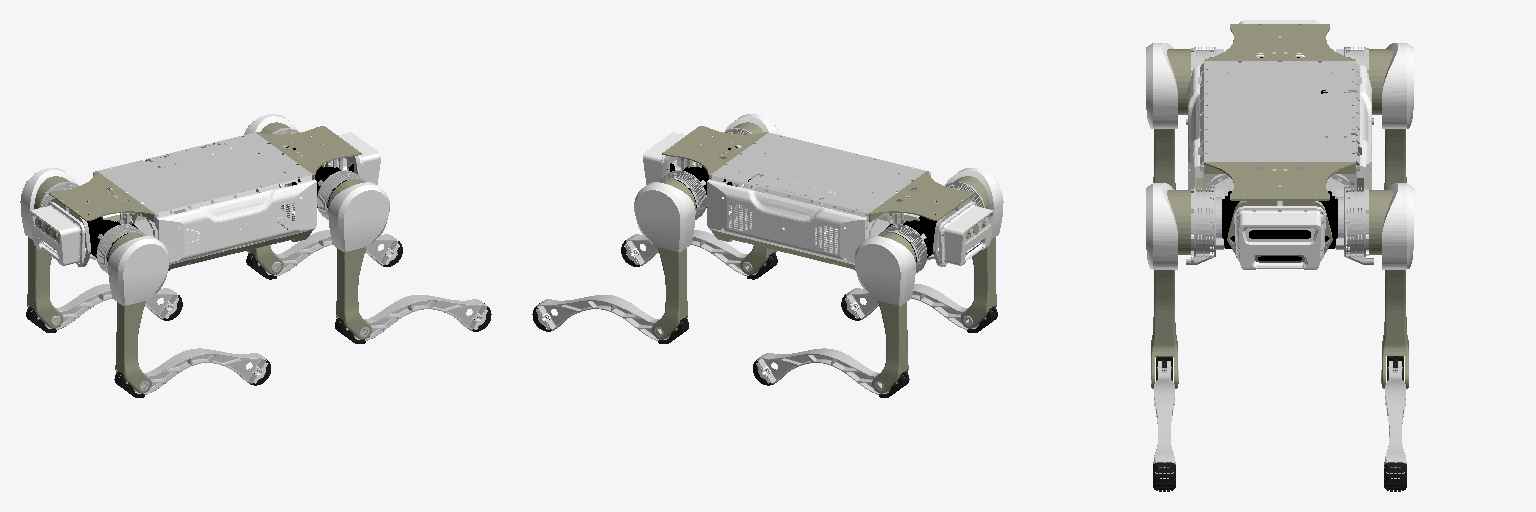
--- What the picture shows (computed from the rendered views, not written in the file) ---
3 views of the same robot in one strip: view 1: azimuth 30°, elevation 25°; view 2: azimuth 150°, elevation 25°; view 3: azimuth 270°, elevation 25° (orthographic).
Robot: x20Z1_description — 29 links, 28 joints (19 revolute, 9 fixed); root link base; default pose: all joints at 0 but 4 set to mid-range because 0 is outside their limits (FL_calf_joint = 1.44, FR_calf_joint = 1.44, RL_calf_joint = 1.44, RR_calf_joint = 1.44).
Visible links, largest first — view 1: trunk, RR_thigh, FR_thigh, RL_thigh, RR_calf, FR_calf, RL_calf, FL_calf, FL_thigh; view 2: trunk, RL_thigh, FL_thigh, RR_thigh, RL_calf, FL_calf, RR_calf, FR_calf, FR_thigh; view 3: trunk, FR_thigh, FL_thigh, RL_thigh, RR_thigh, FL_calf, FR_calf.
Link boxes in pixels (box(x1,y1,x2,y2)): trunk: box(29, 126, 380, 270); RR_thigh: box(96, 224, 169, 393); FR_thigh: box(317, 170, 389, 339); RL_thigh: box(20, 168, 78, 328); RR_calf: box(114, 348, 270, 397); FR_calf: box(335, 295, 491, 343); RL_calf: box(26, 284, 182, 332); FL_calf: box(246, 230, 402, 279); FL_thigh: box(244, 114, 299, 274); trunk: box(643, 126, 994, 270); RL_thigh: box(854, 224, 927, 393); FL_thigh: box(634, 170, 706, 339); RR_thigh: box(945, 168, 1003, 328); RL_calf: box(753, 348, 909, 397); FL_calf: box(532, 295, 688, 343); RR_calf: box(841, 284, 997, 332); FR_calf: box(621, 230, 777, 279); FR_thigh: box(724, 114, 779, 274); trunk: box(1188, 20, 1371, 269); FR_thigh: box(1146, 183, 1223, 388); FL_thigh: box(1336, 183, 1413, 388); RL_thigh: box(1336, 43, 1413, 189); RR_thigh: box(1146, 43, 1223, 189); FL_calf: box(1384, 356, 1406, 491); FR_calf: box(1153, 357, 1175, 491).
Size in the robot's own frame: 1.06 by 0.47 by 0.4544 metres.
13 mesh visuals loaded from 17 distinct referenced files (8 Collada DAE); not drawn: 9 (file found but could not be loaded).

robot.urdf — x20Z1_description:
<?xml version="1.0" encoding="utf-8"?>

<robot name="x20Z1_description">
  <material name="black">
    <color rgba="0.0 0.0 0.0 1.0" />
  </material>
  <material name="blue">
    <color rgba="0.0 0.0 0.8 1.0" />
  </material>
  <material name="green">
    <color rgba="0.0 0.8 0.0 1.0" />
  </material>
  <material name="grey">
    <color rgba="0.2 0.2 0.2 1.0" />
  </material>
  <material name="silver">
    <color rgba="0.9137254901960784 0.9137254901960784 0.8470588235294118 1.0" />
  </material>
  <material name="orange">
    <color rgba="1.0 0.4235294117647059 0.0392156862745098 1.0" />
  </material>
  <material name="brown">
    <color rgba="0.8705882352941177 0.8117647058823529 0.7647058823529411 1.0" />
  </material>
  <material name="red">
    <color rgba="0.8 0.0 0.0 1.0" />
  </material>
  <material name="white">
    <color rgba="1.0 1.0 1.0 1.0" />
  </material>
  <gazebo>
    <plugin filename="libgazebo_ros_control.so" name="gazebo_ros_control">
      <robotNamespace>/x20Z1_gazebo</robotNamespace>
      <robotSimType>gazebo_ros_control/DefaultRobotHWSim</robotSimType>
    </plugin>
  </gazebo>
  <!-- Show the trajectory of trunk center. -->
  <gazebo>
    <plugin filename="libLinkPlot3DPlugin.so" name="3dplot">
      <frequency>10</frequency>
      <plot>
        <link>base</link>
        <pose>0 0 0 0 0 0</pose>
        <material>Gazebo/Yellow</material>
      </plot>
    </plugin>
  </gazebo>
  <gazebo>
    <plugin filename="libgazebo_ros_force.so" name="gazebo_ros_force">
      <bodyName>trunk</bodyName>
      <topicName>/apply_force/trunk</topicName>
    </plugin>
  </gazebo>
  <gazebo reference="imu_link">
    <gravity>true</gravity>
    <sensor name="imu_sensor" type="imu">
      <always_on>true</always_on>
      <update_rate>1000</update_rate>
      <visualize>true</visualize>
      <topic>__default_topic__</topic>
      <plugin filename="libgazebo_ros_imu_sensor.so" name="imu_plugin">
        <topicName>trunk_imu</topicName>
        <bodyName>imu_link</bodyName>
        <updateRateHZ>1000.0</updateRateHZ>
        <gaussianNoise>0.0</gaussianNoise>
        <xyzOffset>0 0 0</xyzOffset>
        <rpyOffset>0 0 0</rpyOffset>
        <frameName>imu_link</frameName>
      </plugin>
      <pose>0 0 0 0 0 0</pose>
    </sensor>
  </gazebo>
  <!-- Foot contacts. -->
  <gazebo reference="FL_calf">
    <sensor name="FL_foot_contact" type="contact">
      <update_rate>100</update_rate>
      <plugin filename="libunitreeFootContactPlugin.so" name="contactPlugin" />
      <contact>
        <collision>FL_foot_collision_1</collision>
      </contact>
    </sensor>
  </gazebo>
  <gazebo reference="FR_calf">
    <sensor name="FR_foot_contact" type="contact">
      <update_rate>100</update_rate>
      <plugin filename="libunitreeFootContactPlugin.so" name="contactPlugin" />
      <contact>
        <collision>FR_foot_collision_1</collision>
      </contact>
    </sensor>
  </gazebo>
  <gazebo reference="RL_calf">
    <sensor name="RL_foot_contact" type="contact">
      <update_rate>100</update_rate>
      <plugin filename="libunitreeFootContactPlugin.so" name="contactPlugin" />
      <contact>
        <collision>RL_foot_collision_1</collision>
      </contact>
    </sensor>
  </gazebo>
  <gazebo reference="RR_calf">
    <sensor name="RR_foot_contact" type="contact">
      <update_rate>100</update_rate>
      <plugin filename="libunitreeFootContactPlugin.so" name="contactPlugin" />
      <contact>
        <collision>RR_foot_collision_1</collision>
      </contact>
    </sensor>
  </gazebo>
  <!-- Visualization of Foot contacts. -->
  <gazebo reference="FL_foot">
    <visual>
      <plugin filename="libunitreeDrawForcePlugin.so" name="drawForcePlugin">
        <topicName>FL_foot_contact</topicName>
      </plugin>
    </visual>
  </gazebo>
  <gazebo reference="FR_foot">
    <visual>
      <plugin filename="libunitreeDrawForcePlugin.so" name="drawForcePlugin">
        <topicName>FR_foot_contact</topicName>
      </plugin>
    </visual>
  </gazebo>
  <gazebo reference="RL_foot">
    <visual>
      <plugin filename="libunitreeDrawForcePlugin.so" name="drawForcePlugin">
        <topicName>RL_foot_contact</topicName>
      </plugin>
    </visual>
  </gazebo>
  <gazebo reference="RR_foot">
    <visual>
      <plugin filename="libunitreeDrawForcePlugin.so" name="drawForcePlugin">
        <topicName>RR_foot_contact</topicName>
      </plugin>
    </visual>
  </gazebo>
  <gazebo reference="base">
    <material>Gazebo/Green</material>
    <turnGravityOff>false</turnGravityOff>
  </gazebo>
  <gazebo reference="trunk">
    <mu1>0.2</mu1>
    <mu2>0.2</mu2>
    <kp value="1000000.0" />
    <kd value="1.0" />
  </gazebo>
  <gazebo reference="stick_link">
    <mu1>0.2</mu1>
    <mu2>0.2</mu2>
    <material>Gazebo/White</material>
  </gazebo>
  <gazebo reference="imu_link">
    <mu1>0.2</mu1>
    <mu2>0.2</mu2>
    <material>Gazebo/Red</material>
  </gazebo>
  <gazebo reference="FL_hip">
    <mu1>0.2</mu1>
    <mu2>0.2</mu2>
  </gazebo>
  <gazebo reference="FL_thigh">
    <mu1>0.2</mu1>
    <mu2>0.2</mu2>
    <self_collide>1</self_collide>
    <kp value="1000000.0" />
    <kd value="1.0" />
  </gazebo>
  <gazebo reference="FL_calf">
    <mu1>0.2</mu1>
    <mu2>0.2</mu2>
    <self_collide>1</self_collide>
  </gazebo>
  <gazebo reference="FL_foot">
    <mu1>0.6</mu1>
    <mu2>0.6</mu2>
    <self_collide>1</self_collide>
    <kp value="1000000.0" />
    <kd value="1.0" />
  </gazebo>
  <gazebo reference="FR_hip">
    <mu1>0.2</mu1>
    <mu2>0.2</mu2>
  </gazebo>
  <gazebo reference="FR_thigh">
    <mu1>0.2</mu1>
    <mu2>0.2</mu2>
    <self_collide>1</self_collide>
    <kp value="1000000.0" />
    <kd value="1.0" />
  </gazebo>
  <gazebo reference="FR_calf">
    <mu1>0.2</mu1>
    <mu2>0.2</mu2>
    <self_collide>1</self_collide>
  </gazebo>
  <gazebo reference="FR_foot">
    <mu1>0.6</mu1>
    <mu2>0.6</mu2>
    <self_collide>1</self_collide>
    <kp value="1000000.0" />
    <kd value="1.0" />
  </gazebo>
  <gazebo reference="RL_hip">
    <mu1>0.2</mu1>
    <mu2>0.2</mu2>
  </gazebo>
  <gazebo reference="RL_thigh">
    <mu1>0.2</mu1>
    <mu2>0.2</mu2>
    <self_collide>1</self_collide>
    <kp value="1000000.0" />
    <kd value="1.0" />
  </gazebo>
  <gazebo reference="RL_calf">
    <mu1>0.2</mu1>
    <mu2>0.2</mu2>
    <self_collide>1</self_collide>
  </gazebo>
  <gazebo reference="RL_foot">
    <mu1>0.6</mu1>
    <mu2>0.6</mu2>
    <self_collide>1</self_collide>
    <kp value="1000000.0" />
    <kd value="1.0" />
  </gazebo>
  <gazebo reference="RR_hip">
    <mu1>0.2</mu1>
    <mu2>0.2</mu2>
  </gazebo>
  <gazebo reference="RR_thigh">
    <mu1>0.2</mu1>
    <mu2>0.2</mu2>
    <self_collide>1</self_collide>
    <kp value="1000000.0" />
    <kd value="1.0" />
  </gazebo>
  <gazebo reference="RR_calf">
    <mu1>0.2</mu1>
    <mu2>0.2</mu2>
    <self_collide>1</self_collide>
  </gazebo>
  <gazebo reference="RR_foot">
    <mu1>0.6</mu1>
    <mu2>0.6</mu2>
    <self_collide>1</self_collide>
    <kp value="1000000.0" />
    <kd value="1.0" />
  </gazebo>

  <!-- <link name="world"/>
  <joint name="world_joint" type="fixed">
    <parent link="world"/>
    <child link="base"/>
    <origin xyz="0 0 0" rpy="0 0 0"/>
  </joint> -->

  <link name="base">
    <visual>
      <origin rpy="0 0 0" xyz="0 0 0" />
      <geometry>
        <box size="0.001 0.001 0.001" />
      </geometry>
    </visual>
    <inertial>
      <mass value="0.0001" />
      <inertia ixx="1E-12" ixy="0" ixz="0" iyy="1E-12" iyz="0" izz="1E-12" />
    </inertial>
    <collision>
      <geometry>
        <box size="0.46 0.26 0.15" />
      </geometry>
    </collision>
  </link>
  <joint name="floating_base" type="fixed">
    <parent link="base" />
    <child link="trunk" />
  </joint>
  <link name="trunk">
    <inertial>
      <origin xyz="0.0049299 0.00041299 0.0040884" />
      <mass value="26.398" />
      <inertia ixx="0.313256" ixy="-5.2136E-05" ixz="-0.00019406" iyy="0.51388" iyz="8.2679E-05" izz="0.651151" />
    </inertial>
    <visual>
      <geometry>
        <mesh filename="package://x20Z1_description/meshes/visual/Torso.dae" scale="1 1 1" />
      </geometry>
    </visual>
  </link>
  <joint name="imu_joint" type="fixed">
    <parent link="base" />
    <child link="imu_link" />
    <origin rpy="0 0 0" xyz="0 0 0" />
  </joint>
  <link name="imu_link">
    <inertial>
      <mass value="0.001" />
      <origin rpy="0 0 0" xyz="0 0 0" />
      <inertia ixx="0.0001" ixy="0" ixz="0" iyy="0.0001" iyz="0" izz="0.0001" />
    </inertial>
    <visual>
      <origin rpy="0 0 0" xyz="0 0 0" />
      <geometry>
        <box size="0.001 0.001 0.001" />
      </geometry>
      <material name="red" />
    </visual>
    <!-- <collision>
          <origin rpy="0 0 0" xyz="0 0 0"/>
          <geometry>
              <box size=".001 .001 .001"/>
          </geometry>
      </collision> -->
  </link> --&gt; <joint name="trunk_arm_joint" type="fixed">
  <origin rpy="0 0 0" xyz="0.265 0 0.085" />
  <parent link="trunk" />
  <child link="link00" />
</joint>
<link name="link00">
  <visual>
    <origin rpy="0 0 0" xyz="0 0 0" />
    <geometry>
      <mesh filename="package://x20Z1_description/meshes/visual/z1_Link00.dae" scale="1 1 1" />
    </geometry>
  </visual>
  <collision>
    <geometry>
      <cylinder length="0.051" radius="0.0325" />
    </geometry>
    <origin rpy="0 0 0" xyz="0 0 0.0255" />
  </collision>
  <inertial>
    <origin rpy="0 0 0" xyz="-0.00334984 -0.00013615 0.02495843" />
    <mass value="0.47247481" />
    <inertia ixx="0.00037937" ixy="-3.5e-07" ixz="-1.037e-05" iyy="0.00041521" iyz="-9.9e-07" izz="0.00053066" />
  </inertial>
</link>
<joint name="joint1" type="revolute">
  <origin rpy="0 0 0" xyz="0 0 0.0585" />
  <parent link="link00" />
  <child link="link01" />
  <axis xyz="0 0 1" />
  <dynamics damping="1.0" friction="1.0" />
  <limit effort="30.0" lower="-2.6179938779914944" upper="2.6179938779914944" velocity="3.1415" />
</joint>
<link name="link01">
  <visual>
    <origin rpy="0 0 0" xyz="0 0 0" />
    <geometry>
      <mesh filename="package://x20Z1_description/meshes/visual/z1_Link01.dae" scale="1 1 1" />
    </geometry>
  </visual>
  <collision>
    <geometry>
      <cylinder length="0.102" radius="0.0325" />
    </geometry>
    <origin rpy="0 0 0" xyz="0 0 0" />
  </collision>
  <inertial>
    <origin rpy="0 0 0" xyz="2.47e-06 -0.00025198 0.02317169" />
    <mass value="0.67332551" />
    <inertia ixx="0.00128328" ixy="-6e-08" ixz="-4e-07" iyy="0.00071931" iyz="5e-07" izz="0.00083936" />
  </inertial>
</link>
<joint name="joint2" type="revolute">
  <origin rpy="0 0 0" xyz="0 0 0.045" />
  <parent link="link01" />
  <child link="link02" />
  <axis xyz="0 1 0" />
  <dynamics damping="2.0" friction="2.0" />
  <limit effort="60.0" lower="0.0" upper="2.9670597283903604" velocity="3.1415" />
</joint>
<link name="link02">
  <visual>
    <origin rpy="0 0 0" xyz="0 0 0" />
    <geometry>
      <mesh filename="package://x20Z1_description/meshes/visual/z1_Link02.dae" scale="1 1 1" />
    </geometry>
  </visual>
  <collision>
    <geometry>
      <cylinder length="0.102" radius="0.0325" />
    </geometry>
    <origin rpy="1.5707963267948966 0 0" xyz="0 0 0" />
  </collision>
  <collision>
    <geometry>
      <cylinder length="0.235" radius="0.0225" />
    </geometry>
    <origin rpy="0 1.5707963267948966 0" xyz="-0.16249999999999998 0 0" />
  </collision>
  <collision>
    <geometry>
      <cylinder length="0.051" radius="0.0325" />
    </geometry>
    <origin rpy="1.5707963267948966 0 0" xyz="-0.35 0 0" />
  </collision>
  <inertial>
    <origin rpy="0 0 0" xyz="-0.11012601 0.00240029 0.00158266" />
    <mass value="1.19132258" />
    <inertia ixx="0.00102138" ixy="0.00062358" ixz="5.13e-06" iyy="0.02429457" iyz="-2.1e-06" izz="0.02466114" />
  </inertial>
</link>
<joint name="joint3" type="revolute">
  <origin rpy="0 0 0" xyz="-0.35 0 0" />
  <parent link="link02" />
  <child link="link03" />
  <axis xyz="0 1 0" />
  <dynamics damping="1.0" friction="1.0" />
  <limit effort="30.0" lower="-2.8797932657906435" upper="0.0" velocity="3.1415" />
</joint>
<link name="link03">
  <visual>
    <origin rpy="0 0 0" xyz="0 0 0" />
    <geometry>
      <mesh filename="package://x20Z1_description/meshes/visual/z1_Link03.dae" scale="1 1 1" />
    </geometry>
  </visual>
  <collision>
    <geometry>
      <cylinder length="0.116" radius="0.02" />
    </geometry>
    <origin rpy="0 1.5707963267948966 0" xyz="0.128 0 0.055" />
  </collision>
  <collision>
    <geometry>
      <cylinder length="0.059" radius="0.0325" />
    </geometry>
    <origin rpy="0 1.5707963267948966 1.5707963267948966" xyz="0.2205 0 0.055" />
  </collision>
  <inertial>
    <origin rpy="0 0 0" xyz="0.10609208 -0.00541815 0.03476383" />
    <mass value="0.83940874" />
    <inertia ixx="0.00108061" ixy="-8.669e-05" ixz="-0.00208102" iyy="0.00954238" iyz="-1.332e-05" izz="0.00886621" />
  </inertial>
</link>
<joint name="joint4" type="revolute">
  <origin rpy="0 0 0" xyz="0.218 0 0.057" />
  <parent link="link03" />
  <child link="link04" />
  <axis xyz="0 1 0" />
  <dynamics damping="1.0" friction="1.0" />
  <limit effort="30.0" lower="-1.5184364492350666" upper="1.5184364492350666" velocity="3.1415" />
</joint>
<link name="link04">
  <visual>
    <origin rpy="0 0 0" xyz="0 0 0" />
    <geometry>
      <mesh filename="package://x20Z1_description/meshes/visual/z1_Link04.dae" scale="1 1 1" />
    </geometry>
  </visual>
  <collision>
    <geometry>
      <cylinder length="0.067" radius="0.0325" />
    </geometry>
    <origin rpy="0 0 0" xyz="0.072 0 0" />
  </collision>
  <inertial>
    <origin rpy="0 0 0" xyz="0.04366681 0.00364738 -0.00170192" />
    <mass value="0.56404563" />
    <inertia ixx="0.00031576" ixy="8.13e-05" ixz="4.091e-05" iyy="0.00092996" iyz="-5.96e-06" izz="0.00097912" />
  </inertial>
</link>
<joint name="joint5" type="revolute">
  <origin rpy="0 0 0" xyz="0.07 0.0 0.0" />
  <parent link="link04" />
  <child link="link05" />
  <axis xyz="0 0 1" />
  <dynamics damping="1.0" friction="1.0" />
  <limit effort="30.0" lower="-1.3439035240356338" upper="1.3439035240356338" velocity="3.1415" />
</joint>
<link name="link05">
  <visual>
    <origin rpy="0 0 0" xyz="0 0 0" />
    <geometry>
      <mesh filename="package://x20Z1_description/meshes/visual/z1_Link05.dae" scale="1 1 1" />
    </geometry>
  </visual>
  <inertial>
    <origin rpy="0 0 0" xyz="0.03121533 0.0 0.00646316" />
    <mass value="0.38938492" />
    <inertia ixx="0.00017605" ixy="4e-07" ixz="5.689e-05" iyy="0.00055896" iyz="-1.3e-07" izz="0.0005386" />
  </inertial>
</link>
<joint name="joint6" type="revolute">
  <origin rpy="0 0 0" xyz="0.0492 0.0 0.0" />
  <parent link="link05" />
  <child link="link06" />
  <axis xyz="1 0 0" />
  <dynamics damping="1.0" friction="1.0" />
  <limit effort="30.0" lower="-2.792526803190927" upper="2.792526803190927" velocity="3.1415" />
</joint>
<link name="link06">
  <visual>
    <origin rpy="0 0 0" xyz="0 0 0" />
    <geometry>
      <mesh filename="package://x20Z1_description/meshes/visual/z1_Link06.dae" scale="1 1 1" />
    </geometry>
  </visual>
  <collision>
    <geometry>
      <cylinder length="0.051" radius="0.0325" />
    </geometry>
    <origin rpy="0 1.5707963267948966 0" xyz="0.0255 0 0" />
  </collision>
  <inertial>
    <origin rpy="0 0 0" xyz="0.0241569 -0.00017355 -0.00143876" />
    <mass value="0.28875807" />
    <inertia ixx="0.00018328" ixy="1.22e-06" ixz="5.4e-07" iyy="0.0001475" iyz="8e-08" izz="0.0001468" />
  </inertial>
</link>
<joint name="gripperStator" type="fixed">
  <origin rpy="0 0 0" xyz="0.051 0.0 0.0" />
  <parent link="link06" />
  <child link="gripperStator" />
</joint>
<link name="gripperStator">
  <visual>
    <geometry>
      <mesh filename="package://x20Z1_description/meshes/visual/z1_GripperStator.dae" scale="1 1 1" />
    </geometry>
  </visual>
  <collision>
    <geometry>
      <mesh filename="package://x20Z1_description/meshes/collision/z1_GripperStator.obj" scale="1 1 1" />
    </geometry>
  </collision>
  <inertial>
    <origin rpy="0 0 0" xyz="0.04764427 -0.00035819 -0.00249162" />
    <mass value="0.52603655" />
    <inertia ixx="0.00038683" ixy="-3.59e-06" ixz="7.662e-05" iyy="0.00068614" iyz="2.09e-06" izz="0.00066293" />
  </inertial>
</link>
<joint name="jointGripper" type="revolute">
  <origin rpy="0 0 0" xyz="0.049 0.0 0" />
  <parent link="gripperStator" />
  <child link="gripperMover" />
  <axis xyz="0 1 0" />
  <dynamics damping="1.0" friction="1.0" />
  <limit effort="30.0" lower="-1.5707963267948966" upper="0.0" velocity="3.1415" />
</joint>
<link name="gripperMover">
  <visual>
    <geometry>
      <mesh filename="package://x20Z1_description/meshes/visual/z1_GripperMover.dae" scale="1 1 1" />
    </geometry>
  </visual>
  <collision>
    <geometry>
      <mesh filename="package://x20Z1_description/meshes/collision/z1_GripperMover.obj" scale="1 1 1" />
    </geometry>
  </collision>
  <inertial>
    <origin rpy="0 0 0" xyz="0.01320633 0.00476708 0.00380534" />
    <mass value="0.27621302" />
    <inertia ixx="0.00017716" ixy="1.683e-05" ixz="-1.786e-05" iyy="0.00026787" iyz="2.62e-06" izz="0.00035728" />
  </inertial>
</link>
<joint name="endEffector" type="fixed">
  <origin rpy="0 0 0" xyz="0.094 0.0 0" />
  <parent link="gripperStator" />
  <child link="endEffector" />
</joint>
<link name="endEffector">
  <mass value="0.0" />
  <inertia ixx="0.0" ixy="0.0" ixz="0.0" iyy="0.0" iyz="0.0" izz="0.0" />
</link>
<transmission name="JointTransGripper">
  <type>transmission_interface/SimpleTransmission</type>
  <joint name="jointGripper">
    <hardwareInterface>hardware_interface/EffortJointInterface</hardwareInterface>
  </joint>
  <actuator name="ActuatorGripper">
    <hardwareInterface>hardware_interface/EffortJointInterface</hardwareInterface>
    <mechanicalReduction>1</mechanicalReduction>
  </actuator>
</transmission>
<gazebo reference="gripperStator">
  <self_collide>true</self_collide>
</gazebo>
<gazebo reference="gripperMover">
  <self_collide>true</self_collide>
</gazebo>
<transmission name="JointTrans1">
  <type>transmission_interface/SimpleTransmission</type>
  <joint name="joint1">
    <hardwareInterface>hardware_interface/EffortJointInterface</hardwareInterface>
  </joint>
  <actuator name="Actuator1">
    <hardwareInterface>hardware_interface/EffortJointInterface</hardwareInterface>
    <mechanicalReduction>1</mechanicalReduction>
  </actuator>
</transmission>
<transmission name="JointTrans2">
  <type>transmission_interface/SimpleTransmission</type>
  <joint name="joint2">
    <hardwareInterface>hardware_interface/EffortJointInterface</hardwareInterface>
  </joint>
  <actuator name="Actuator2">
    <hardwareInterface>hardware_interface/EffortJointInterface</hardwareInterface>
    <mechanicalReduction>1</mechanicalReduction>
  </actuator>
</transmission>
<transmission name="JointTrans3">
  <type>transmission_interface/SimpleTransmission</type>
  <joint name="joint3">
    <hardwareInterface>hardware_interface/EffortJointInterface</hardwareInterface>
  </joint>
  <actuator name="Actuator3">
    <hardwareInterface>hardware_interface/EffortJointInterface</hardwareInterface>
    <mechanicalReduction>1</mechanicalReduction>
  </actuator>
</transmission>
<transmission name="JointTrans4">
  <type>transmission_interface/SimpleTransmission</type>
  <joint name="joint4">
    <hardwareInterface>hardware_interface/EffortJointInterface</hardwareInterface>
  </joint>
  <actuator name="Actuator4">
    <hardwareInterface>hardware_interface/EffortJointInterface</hardwareInterface>
    <mechanicalReduction>1</mechanicalReduction>
  </actuator>
</transmission>
<transmission name="JointTrans5">
  <type>transmission_interface/SimpleTransmission</type>
  <joint name="joint5">
    <hardwareInterface>hardware_interface/EffortJointInterface</hardwareInterface>
  </joint>
  <actuator name="Actuator5">
    <hardwareInterface>hardware_interface/EffortJointInterface</hardwareInterface>
    <mechanicalReduction>1</mechanicalReduction>
  </actuator>
</transmission>
<transmission name="JointTrans6">
  <type>transmission_interface/SimpleTransmission</type>
  <joint name="joint6">
    <hardwareInterface>hardware_interface/EffortJointInterface</hardwareInterface>
  </joint>
  <actuator name="Actuator6">
    <hardwareInterface>hardware_interface/EffortJointInterface</hardwareInterface>
    <mechanicalReduction>1</mechanicalReduction>
  </actuator>
</transmission>

<joint name="FL_hip_joint" type="revolute">
  <origin xyz="0.292 0.08 0" />
  <parent link="base" />
  <child link="FL_hip" />
  <axis xyz="-1 0 0" />
  <dynamics damping="0.01" friction="0.03" />
  <limit lower="-0.523" upper="0.261" effort="50" velocity="20" />
</joint>
<link name="FL_hip">
  <inertial>
    <origin xyz="-0.00075689 -0.0089129 -5.0528E-05" />
    <mass value="1.5767" />
    <inertia ixx="0.00155112" ixy="6.1989E-06" ixz="2.8652E-06" iyy="0.00295295" iyz="3.7E-06" izz="0.005509864" />
  </inertial>
  <visual>
    <geometry>
      <mesh filename="package://x20Z1_description/meshes/visual/FL_Hip.dae" scale="1 1 1" />
    </geometry>
  </visual>
</link>

<joint name="FL_thigh_joint" type="revolute">
  <origin xyz="0 0.12325 0" />
  <parent link="FL_hip" />
  <child link="FL_thigh" />
  <axis xyz="0 -1 0" />
  <dynamics damping="0.01" friction="0.03" />
  <limit lower="-2.53" upper="0.35" effort="50" velocity="20" />
</joint>

<link name="FL_thigh">
  <inertial>
    <origin xyz="-0.0025263 -0.022118 -0.0292" />
    <mass value="3.0063" />
    <inertia ixx="0.0092851" ixy="4.2848E-05" ixz="-3.0429E-06" iyy="0.0120815" iyz="-6.8889E-05" izz="0.00449991" />
  </inertial>
  <visual>
    <geometry>
      <mesh filename="package://x20Z1_description/meshes/visual/L_Thigh.dae" scale="1 1 1" />
    </geometry>
  </visual>
  <collision>
    <origin xyz="-0.02 0 -0.13" />
    <geometry>
      <cylinder length="0.25" radius="0.04" />
    </geometry>
  </collision>
</link>

<joint name="FL_calf_joint" type="revolute">
  <origin xyz="0 0 -0.3" />
  <parent link="FL_thigh" />
  <child link="FL_calf" />
  <axis xyz="0 -1 0" />
  <dynamics damping="0.01" friction="0.03" />
  <limit lower="0.35" upper="2.53" effort="80" velocity="20" />
</joint>

<link name="FL_calf">
  <inertial>
    <origin xyz="0.0070425 1.3129E-06 -0.16459" />
    <mass value="0.60332" />
    <inertia ixx="0.00786321" ixy="8.0708E-08" ixz="0.00019488" iyy="0.008136445" iyz="-1.6129E-06" izz="0.00035109" />
  </inertial>
  <visual>
    <geometry>
      <mesh filename="package://x20Z1_description/meshes/visual/Shank.dae" scale="1 1 1" />
    </geometry>
  </visual>
  <collision>
    <origin xyz="0.00 0 -0.155" />
    <geometry>
      <!-- <sphere radius="0.036"/> -->
      <cylinder length="0.22" radius="0.025" />
    </geometry>
  </collision>
</link>

<joint name="FL_Ankle" type="fixed" dont_collapse="true">
  <origin xyz="0 0.002 -0.32" />
  <parent link="FL_calf" />
  <child link="FL_foot" />
</joint>

<link name="FL_foot">
  <inertial>
    <mass value="0.06" />
    <inertia ixx="1E-12" ixy="0" ixz="0" iyy="1E-12" iyz="0" izz="1E-12" />
  </inertial>
  <collision>
    <geometry>
      <sphere radius="0.025" />
    </geometry>
  </collision>
</link>

<transmission name="FL_hip_tran">
  <type>transmission_interface/SimpleTransmission</type>
  <joint name="FL_hip_joint">
    <hardwareInterface>hardware_interface/EffortJointInterface</hardwareInterface>
  </joint>
  <actuator name="FL_hip_motor">
    <hardwareInterface>hardware_interface/EffortJointInterface</hardwareInterface>
    <mechanicalReduction>1</mechanicalReduction>
  </actuator>
</transmission>
<transmission name="FL_thigh_tran">
  <type>transmission_interface/SimpleTransmission</type>
  <joint name="FL_thigh_joint">
    <hardwareInterface>hardware_interface/EffortJointInterface</hardwareInterface>
  </joint>
  <actuator name="FL_thigh_motor">
    <hardwareInterface>hardware_interface/EffortJointInterface</hardwareInterface>
    <mechanicalReduction>1</mechanicalReduction>
  </actuator>
</transmission>
<transmission name="FL_calf_tran">
  <type>transmission_interface/SimpleTransmission</type>
  <joint name="FL_calf_joint">
    <hardwareInterface>hardware_interface/EffortJointInterface</hardwareInterface>
  </joint>
  <actuator name="FL_calf_motor">
    <hardwareInterface>hardware_interface/EffortJointInterface</hardwareInterface>
    <mechanicalReduction>1</mechanicalReduction>
  </actuator>
</transmission>


<joint name="FR_hip_joint" type="revolute">
  <origin xyz="0.292 -0.08 0" />
  <parent link="base" />
  <child link="FR_hip" />
  <axis xyz="-1 0 0" />
  <dynamics damping="0.01" friction="0.03" />
  <limit lower="-0.523" upper="0.261" effort="50" velocity="20" />
</joint>

<link name="FR_hip">
  <inertial>
    <origin xyz="-0.00075689 0.0089129 5.0528E-05" />
    <mass value="1.5767" />
    <inertia ixx="0.00155112" ixy="-6.1989E-06" ixz="-2.8652E-06" iyy="0.00295295" iyz="3.7E-06" izz="0.005509864" />
  </inertial>
  <visual>
    <geometry>
      <mesh filename="package://x20Z1_description/meshes/visual/FR_Hip.dae" scale="1 1 1" />
    </geometry>
  </visual>
</link>

<joint name="FR_thigh_joint" type="revolute">
  <origin xyz="0 -0.12325 0" />
  <parent link="FR_hip" />
  <child link="FR_thigh" />
  <axis xyz="0 -1 0" />
  <dynamics damping="0.01" friction="0.03" />
  <limit lower="-2.53" upper="0.35" effort="50" velocity="20" />
</joint>

<link name="FR_thigh">
  <inertial>
    <origin xyz="-0.0025266 0.022119 -0.029194" />
    <mass value="3.0062" />
    <inertia ixx="0.0092851" ixy="-4.2781E-05" ixz="-3.0682E-06" iyy="0.0120815" iyz="6.8812E-05" izz="0.00449991" />
  </inertial>
  <visual>
    <geometry>
      <mesh filename="package://x20Z1_description/meshes/visual/R_Thigh.dae" scale="1 1 1" />
    </geometry>
  </visual>
  <collision>
    <origin xyz="-0.02 0 -0.13" />
    <geometry>
      <cylinder length="0.25" radius="0.04" />
    </geometry>
  </collision>
</link>

<joint name="FR_calf_joint" type="revolute">
  <origin xyz="0 0 -0.3" />
  <parent link="FR_thigh" />
  <child link="FR_calf" />
  <axis xyz="0 -1 0" />
  <dynamics damping="0.01" friction="0.03" />
  <limit lower="0.35" upper="2.53" effort="80" velocity="20" />
</joint>

<link name="FR_calf">
  <inertial>
    <origin xyz="0.0070425 1.3129E-06 -0.16459" />
    <mass value="0.60332" />
    <inertia ixx="0.00786321" ixy="8.0708E-08" ixz="0.00019488" iyy="0.008136445" iyz="-1.6129E-06" izz="0.00035109" />
  </inertial>
  <visual>
    <geometry>
      <mesh filename="package://x20Z1_description/meshes/visual/Shank.dae" scale="1 1 1" />
    </geometry>
  </visual>
  <collision>
    <origin xyz="0.00 0 -0.155" />
    <geometry>
      <!-- <sphere radius="0.036"/> -->
      <cylinder length="0.22" radius="0.025" />
    </geometry>
  </collision>
</link>

<joint name="FR_Ankle" type="fixed" dont_collapse="true">
  <origin xyz="0 -0.002 -0.32" />
  <parent link="FR_calf" />
  <child link="FR_foot" />
</joint>

<link name="FR_foot">
  <inertial>
    <mass value="0.06" />
    <inertia ixx="1E-12" ixy="0" ixz="0" iyy="1E-12" iyz="0" izz="1E-12" />
  </inertial>
  <collision>
    <geometry>
      <sphere radius="0.025" />
    </geometry>
  </collision>
</link>

<transmission name="FR_hip_tran">
  <type>transmission_interface/SimpleTransmission</type>
  <joint name="FR_hip_joint">
    <hardwareInterface>hardware_interface/EffortJointInterface</hardwareInterface>
  </joint>
  <actuator name="FR_hip_motor">
    <hardwareInterface>hardware_interface/EffortJointInterface</hardwareInterface>
    <mechanicalReduction>1</mechanicalReduction>
  </actuator>
</transmission>
<transmission name="FR_thigh_tran">
  <type>transmission_interface/SimpleTransmission</type>
  <joint name="FR_thigh_joint">
    <hardwareInterface>hardware_interface/EffortJointInterface</hardwareInterface>
  </joint>
  <actuator name="FR_thigh_motor">
    <hardwareInterface>hardware_interface/EffortJointInterface</hardwareInterface>
    <mechanicalReduction>1</mechanicalReduction>
  </actuator>
</transmission>
<transmission name="FR_calf_tran">
  <type>transmission_interface/SimpleTransmission</type>
  <joint name="FR_calf_joint">
    <hardwareInterface>hardware_interface/EffortJointInterface</hardwareInterface>
  </joint>
  <actuator name="FR_calf_motor">
    <hardwareInterface>hardware_interface/EffortJointInterface</hardwareInterface>
    <mechanicalReduction>1</mechanicalReduction>
  </actuator>
</transmission>

<joint name="RL_hip_joint" type="revolute">
  <origin xyz="-0.292 0.08 0" />
  <parent link="base" />
  <child link="RL_hip" />
  <axis xyz="-1 0 0" />
  <dynamics damping="0.01" friction="0.03" />
  <limit lower="-0.523" upper="0.261" effort="50" velocity="20" />
</joint>

<link name="RL_hip">
  <inertial>
    <origin xyz="0.00075689 -0.0089129 5.0528E-05" />
    <mass value="1.5767" />
    <inertia ixx="0.00155112" ixy="-6.1989E-06" ixz="2.8652E-06" iyy="0.00295295" iyz="-3.7E-06" izz="0.005509864" />
  </inertial>
  <visual>
    <geometry>
      <mesh filename="package://x20Z1_description/meshes/visual/HL_Hip.dae" scale="1 1 1" />
    </geometry>
  </visual>
</link>

<joint name="RL_thigh_joint" type="revolute">
  <origin xyz="0 0.12325 0" />
  <parent link="RL_hip" />
  <child link="RL_thigh" />
  <axis xyz="0 -1 0" />
  <dynamics damping="0.01" friction="0.03" />
  <limit lower="-2.53" upper="0.35" effort="50" velocity="20" />
</joint>

<link name="RL_thigh">
  <inertial>
    <origin xyz="-0.0025264 -0.022118 -0.0292" />
    <mass value="3.0063" />
    <inertia ixx="0.0092851" ixy="4.2848E-05" ixz="-3.0429E-06" iyy="0.0120815" iyz="-6.8889E-05" izz="0.00449991" />
  </inertial>
  <visual>
    <geometry>
      <mesh filename="package://x20Z1_description/meshes/visual/L_Thigh.dae" scale="1 1 1" />
    </geometry>
  </visual>
  <collision>
    <origin xyz="-0.02 0 -0.13" />
    <geometry>
      <cylinder length="0.25" radius="0.04" />
    </geometry>
  </collision>
</link>

<joint name="RL_calf_joint" type="revolute">
  <origin xyz="0 0 -0.3" />
  <parent link="RL_thigh" />
  <child link="RL_calf" />
  <axis xyz="0 -1 0" />
  <dynamics damping="0.01" friction="0.03" />
  <limit lower="0.35" upper="2.53" effort="80" velocity="20" />
</joint>

<link name="RL_calf">
  <inertial>
    <origin xyz="0.0070425 0 -0.16459" />
    <mass value="0.60332" />
    <inertia ixx="0.00786321" ixy="8.0708E-08" ixz="0.00019488" iyy="0.008136445" iyz="-1.6129E-06" izz="0.00035109" />
  </inertial>
  <visual>
    <geometry>
      <mesh filename="package://x20Z1_description/meshes/visual/Shank.dae" scale="1 1 1" />
    </geometry>
  </visual>
  <collision>
    <origin xyz="0.00 0 -0.155" />
    <geometry>
      <!-- <sphere radius="0.036"/> -->
      <cylinder length="0.22" radius="0.025" />
    </geometry>
  </collision>
</link>

<joint name="RL_Ankle" type="fixed" dont_collapse="true">
  <origin xyz="0 0.002 -0.32" />
  <parent link="RL_calf" />
  <child link="RL_foot" />
</joint>

<link name="RL_foot">
  <inertial>
    <mass value="0.06" />
    <inertia ixx="1E-12" ixy="0" ixz="0" iyy="1E-12" iyz="0" izz="1E-12" />
  </inertial>
  <collision>
    <geometry>
      <sphere radius="0.025" />
    </geometry>
  </collision>
</link>

<transmission name="RL_hip_tran">
  <type>transmission_interface/SimpleTransmission</type>
  <joint name="RL_hip_joint">
    <hardwareInterface>hardware_interface/EffortJointInterface</hardwareInterface>
  </joint>
  <actuator name="RL_hip_motor">
    <hardwareInterface>hardware_interface/EffortJointInterface</hardwareInterface>
    <mechanicalReduction>1</mechanicalReduction>
  </actuator>
</transmission>
<transmission name="RL_thigh_tran">
  <type>transmission_interface/SimpleTransmission</type>
  <joint name="RL_thigh_joint">
    <hardwareInterface>hardware_interface/EffortJointInterface</hardwareInterface>
  </joint>
  <actuator name="RL_thigh_motor">
    <hardwareInterface>hardware_interface/EffortJointInterface</hardwareInterface>
    <mechanicalReduction>1</mechanicalReduction>
  </actuator>
</transmission>
<transmission name="RL_calf_tran">
  <type>transmission_interface/SimpleTransmission</type>
  <joint name="RL_calf_joint">
    <hardwareInterface>hardware_interface/EffortJointInterface</hardwareInterface>
  </joint>
  <actuator name="RL_calf_motor">
    <hardwareInterface>hardware_interface/EffortJointInterface</hardwareInterface>
    <mechanicalReduction>1</mechanicalReduction>
  </actuator>
</transmission>

<joint name="RR_hip_joint" type="revolute">
  <origin xyz="-0.292 -0.08 0" />
  <parent link="base" />
  <child link="RR_hip" />
  <axis xyz="-1 0 0" />
  <dynamics damping="0.01" friction="0.03" />
  <limit lower="-0.523" upper="0.261" effort="50" velocity="20" />
</joint>

<link name="RR_hip">
  <inertial>
    <origin xyz="0.00075689 0.0089129 -5.0528E-05" />
    <mass value="1.5767" />
    <inertia ixx="0.00155112" ixy="6.1989E-06" ixz="-2.8652E-06" iyy="0.00295295" iyz="-3.7E-06" izz="0.005509864" />
  </inertial>
  <visual>
    <geometry>
      <mesh filename="package://x20Z1_description/meshes/visual/HR_Hip.dae" scale="1 1 1" />
    </geometry>
  </visual>
</link>

<joint name="RR_thigh_joint" type="revolute">
  <origin xyz="0 -0.12325 0" />
  <parent link="RR_hip" />
  <child link="RR_thigh" />
  <axis xyz="0 -1 0" />
  <dynamics damping="0.01" friction="0.03" />
  <limit lower="-2.53" upper="0.35" effort="50" velocity="20" />
</joint>

<link name="RR_thigh">
  <inertial>
    <origin xyz="-0.0025266 0.022119 -0.029194" />
    <mass value="3.0062" />
    <inertia ixx="0.0092851" ixy="-4.2781E-05" ixz="-3.0688E-06" iyy="0.0120815" iyz="6.8812E-05" izz="0.00449991" />
  </inertial>
  <visual>
    <geometry>
      <mesh filename="package://x20Z1_description/meshes/visual/R_Thigh.dae" scale="1 1 1" />
    </geometry>
  </visual>
  <collision>
    <origin xyz="-0.02 0 -0.13" />
    <geometry>
      <cylinder length="0.25" radius="0.04" />
    </geometry>
  </collision>
</link>

<joint name="RR_calf_joint" type="revolute">
  <origin xyz="0 0 -0.3" />
  <parent link="RR_thigh" />
  <child link="RR_calf" />
  <axis xyz="0 -1 0" />
  <dynamics damping="0.01" friction="0.03" />
  <limit lower="0.35" upper="2.53" effort="80" velocity="20" />
</joint>

<link name="RR_calf">
  <inertial>
    <origin xyz="0.0070425 0.0 -0.16459" />
    <mass value="0.60332" />
    <inertia ixx="0.00786321" ixy="8.0708E-08" ixz="0.00019488" iyy="0.008136445" iyz="-1.6129E-06" izz="0.00035109" />
  </inertial>
  <visual>
    <geometry>
      <mesh filename="package://x20Z1_description/meshes/visual/Shank.dae" scale="1 1 1" />
    </geometry>
  </visual>
  <collision>
    <origin xyz="0.00 0 -0.155" />
    <geometry>
      <!-- <sphere radius="0.036"/> -->
      <cylinder length="0.22" radius="0.025" />
    </geometry>
  </collision>
</link>

<joint name="HR_Ankle" type="fixed" dont_collapse="true">
  <origin xyz="0 -0.002 -0.32" />
  <parent link="RR_calf" />
  <child link="RR_foot" />
</joint>

<link name="RR_foot">
  <inertial>
    <mass value="0.06" />
    <inertia ixx="1E-12" ixy="0" ixz="0" iyy="1E-12" iyz="0" izz="1E-12" />
  </inertial>
  <collision>
    <geometry>
      <sphere radius="0.025" />
    </geometry>
  </collision>
</link>

<transmission name="RR_hip_tran">
  <type>transmission_interface/SimpleTransmission</type>
  <joint name="RR_hip_joint">
    <hardwareInterface>hardware_interface/EffortJointInterface</hardwareInterface>
  </joint>
  <actuator name="RR_hip_motor">
    <hardwareInterface>hardware_interface/EffortJointInterface</hardwareInterface>
    <mechanicalReduction>1</mechanicalReduction>
  </actuator>
</transmission>
<transmission name="RR_thigh_tran">
  <type>transmission_interface/SimpleTransmission</type>
  <joint name="RR_thigh_joint">
    <hardwareInterface>hardware_interface/EffortJointInterface</hardwareInterface>
  </joint>
  <actuator name="RR_thigh_motor">
    <hardwareInterface>hardware_interface/EffortJointInterface</hardwareInterface>
    <mechanicalReduction>1</mechanicalReduction>
  </actuator>
</transmission>
<transmission name="RR_calf_tran">
  <type>transmission_interface/SimpleTransmission</type>
  <joint name="RR_calf_joint">
    <hardwareInterface>hardware_interface/EffortJointInterface</hardwareInterface>
  </joint>
  <actuator name="RR_calf_motor">
    <hardwareInterface>hardware_interface/EffortJointInterface</hardwareInterface>
    <mechanicalReduction>1</mechanicalReduction>
  </actuator>
</transmission>

</robot>
